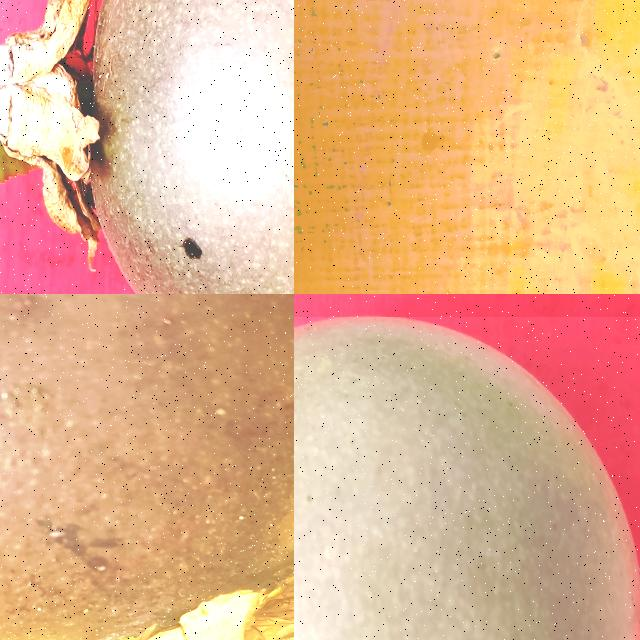Estado-1: (294, 318, 640, 640)
Estado-3: (0, 0, 294, 294)
Estado-6: (0, 294, 294, 640)
